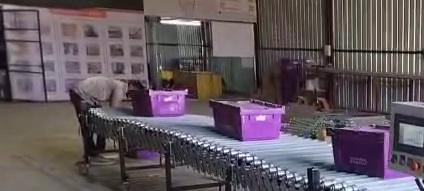box: (331, 127, 408, 178), (210, 99, 283, 140), (128, 89, 186, 116)
